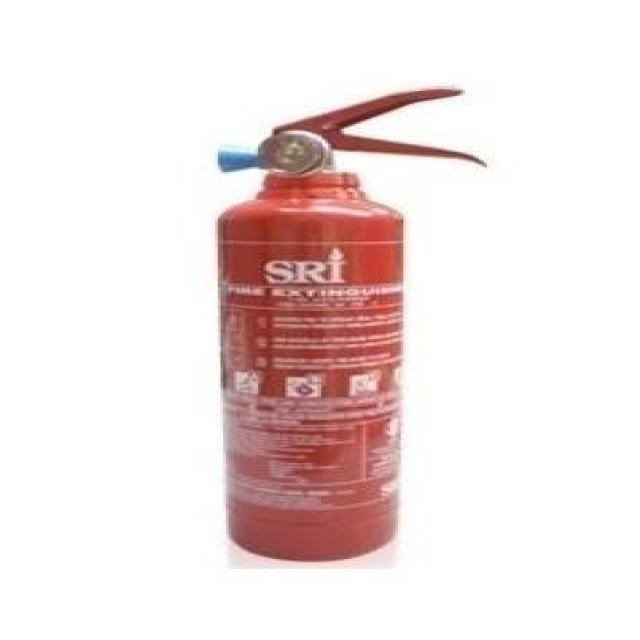fire_extinguisher: (204, 83, 492, 564)
